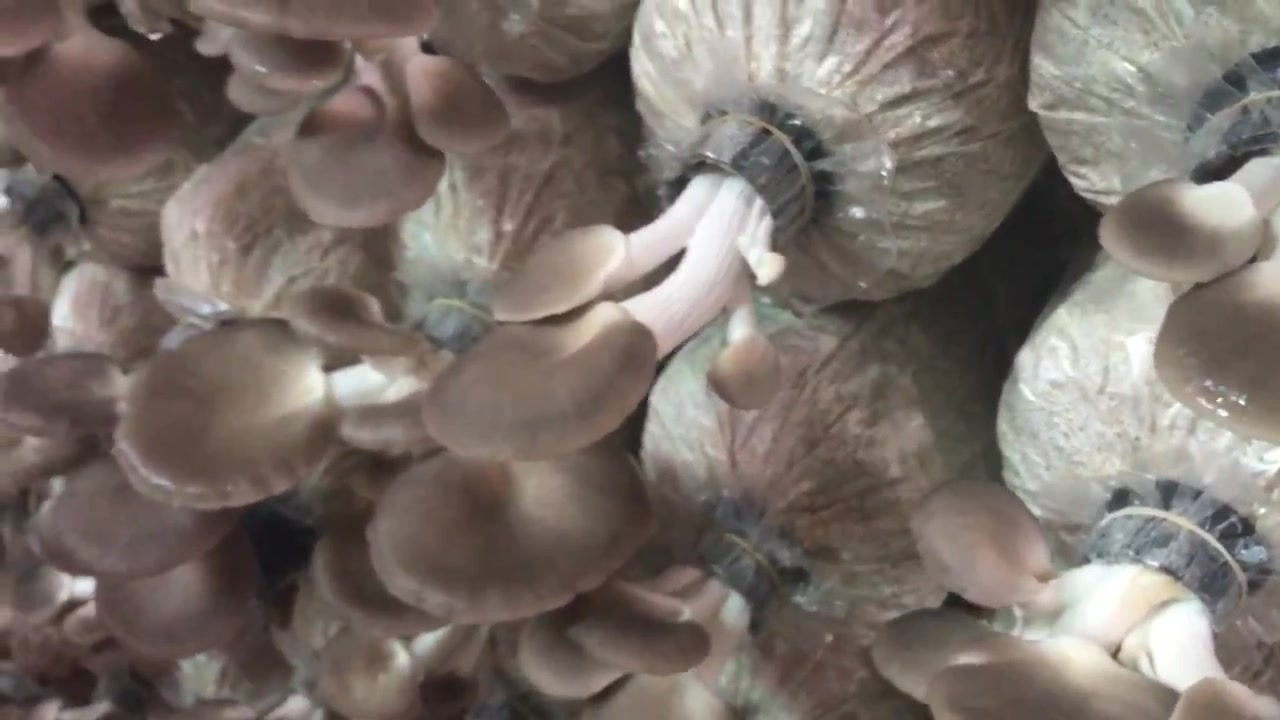nam: (427, 107, 834, 463), (870, 468, 1280, 719), (114, 267, 507, 516), (1096, 75, 1280, 447), (521, 531, 827, 720), (282, 1, 511, 232), (1, 1, 191, 185)
